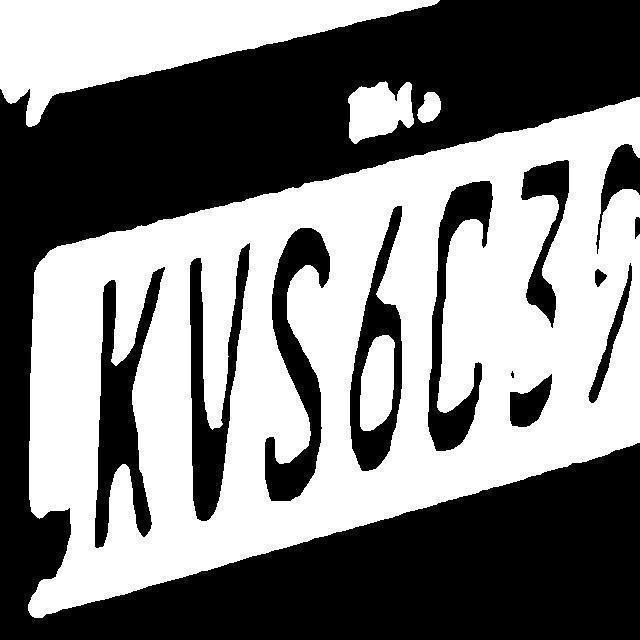3: (512, 162, 570, 430)
6: (348, 205, 412, 475)
9: (569, 151, 639, 416)
c: (418, 182, 493, 458)
k: (96, 264, 166, 540)
s: (265, 229, 333, 496)
v: (189, 241, 253, 516)
